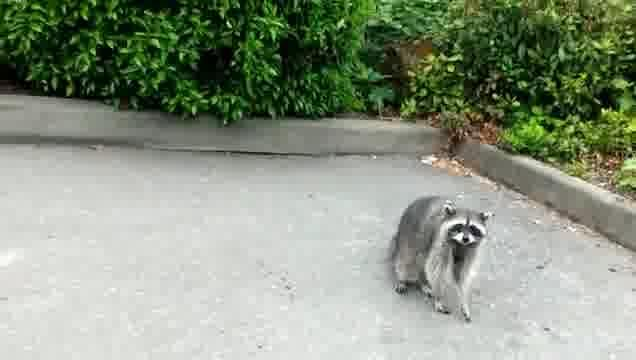raccoon: (387, 190, 495, 326)
